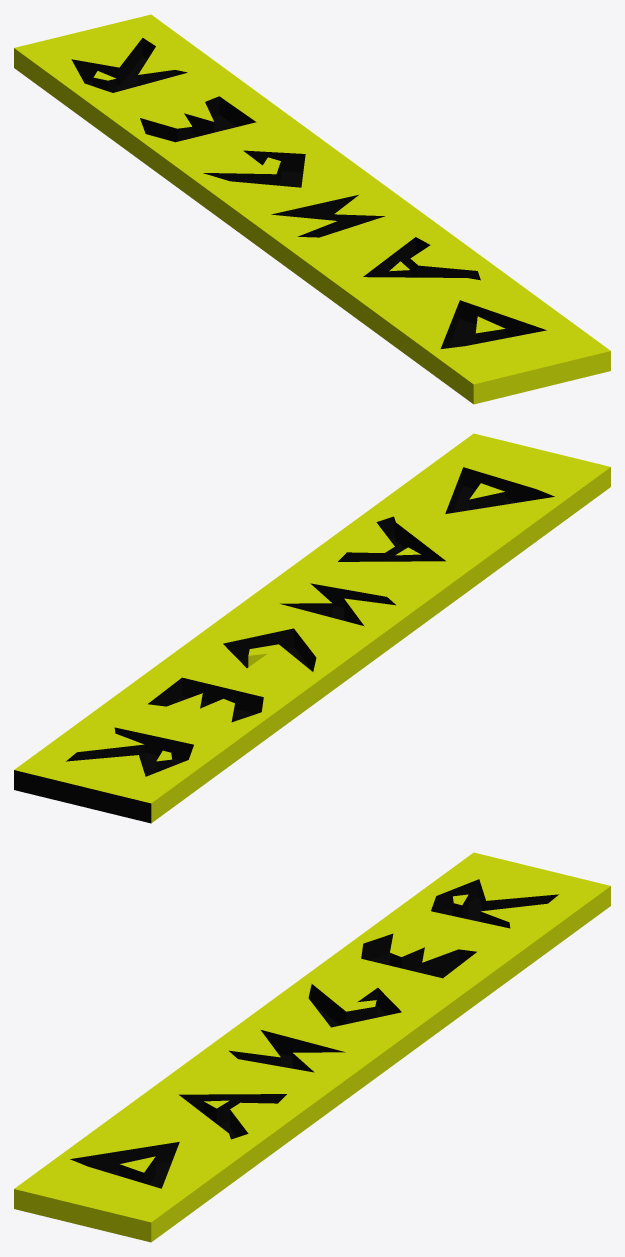
File: dangerSign.fbx
3 renders of one model, top to bottom at view 1: azimuth 30°, elevation 25°; view 2: azimuth 150°, elevation 25°; view 3: azimuth 330°, elevation 25°, orthographic.
Parts seen in each view (by area): view 1: Cube; view 2: Cube; view 3: Cube.
Part boxes in pixels (left/top/right/bottom): Cube: left=14, top=14, right=610, bottom=404; Cube: left=14, top=433, right=610, bottom=823; Cube: left=14, top=852, right=610, bottom=1242.
Bounding box in the file's own units: 200 × 27.89 × 1160.
